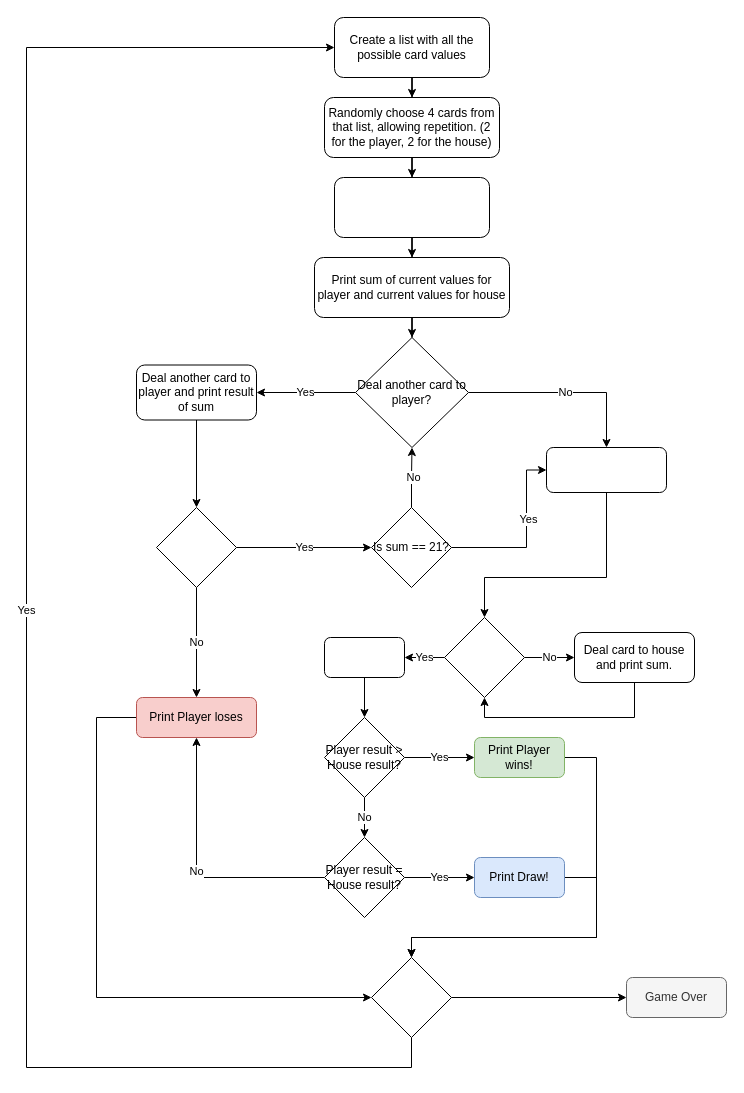
The diagram is 744 pixels wide and 1093 high, and some of its shapes have lost their labels. The centre of each missing label's shape, as x and y in pixels:
Is result >= 17?: pixel 484 657
Is sum <= 21?: pixel 196 547
Play again?: pixel 411 997
Print 2 cards for player and 1 card for house: pixel 412 207
Print result: pixel 364 657
Show result from house cards: pixel 606 469
